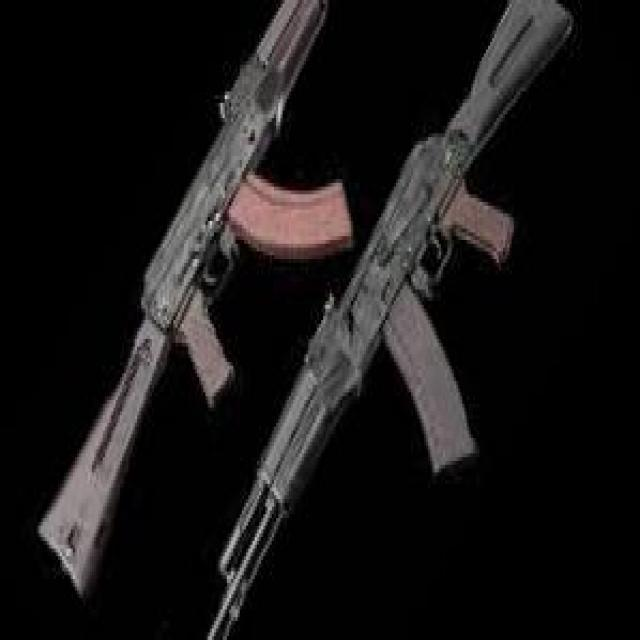weapon: (206, 0, 573, 640), (37, 0, 354, 605)
